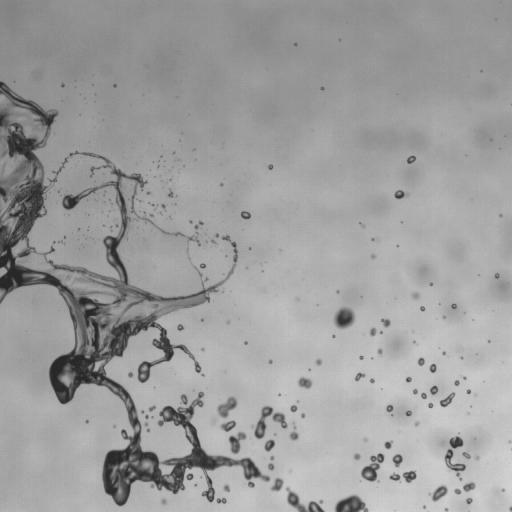droplet: (251, 406, 287, 439), (361, 453, 384, 481), (334, 494, 368, 511), (333, 307, 355, 329), (217, 396, 237, 417), (228, 431, 246, 454), (429, 485, 447, 501), (270, 477, 283, 492), (220, 420, 236, 431), (297, 377, 312, 388), (264, 439, 275, 451), (392, 454, 402, 467), (394, 190, 408, 199), (354, 372, 365, 381), (429, 385, 438, 395), (381, 318, 390, 327), (240, 211, 250, 219), (384, 440, 392, 449), (417, 357, 425, 365), (407, 156, 415, 163), (429, 364, 436, 372), (370, 327, 376, 336), (412, 292, 419, 299), (290, 405, 297, 412), (386, 405, 393, 412), (353, 453, 360, 460), (168, 189, 174, 197), (462, 452, 470, 458), (148, 405, 155, 411), (268, 463, 274, 470), (223, 484, 229, 491), (177, 324, 183, 330), (405, 410, 411, 416), (466, 498, 472, 504), (377, 348, 382, 355), (316, 359, 321, 365), (421, 393, 426, 399), (161, 498, 166, 504), (268, 164, 273, 169), (200, 263, 205, 268), (494, 273, 499, 278), (128, 372, 133, 377), (406, 377, 411, 382), (454, 380, 459, 385), (474, 455, 479, 460), (161, 204, 165, 210), (359, 223, 365, 227), (371, 254, 375, 259), (451, 304, 456, 308), (420, 306, 424, 311), (370, 378, 374, 383), (413, 389, 417, 394), (428, 403, 433, 407), (301, 413, 305, 418), (414, 421, 418, 426), (270, 455, 274, 460), (211, 239, 215, 243), (466, 389, 470, 393), (215, 233, 218, 237), (359, 356, 363, 359), (269, 359, 272, 363), (363, 438, 367, 441), (444, 508, 448, 511), (509, 506, 511, 511), (147, 191, 150, 194), (429, 282, 432, 285), (226, 320, 229, 323), (141, 410, 144, 413), (145, 415, 148, 418), (501, 488, 504, 491), (442, 352, 446, 354), (61, 84, 64, 86), (220, 183, 223, 185), (158, 212, 161, 214), (244, 342, 247, 344), (201, 348, 204, 350), (509, 440, 511, 443), (423, 505, 425, 508), (321, 87, 323, 89), (499, 214, 501, 216), (332, 335, 334, 337), (463, 377, 465, 379)
ligament: (0, 81, 268, 503), (444, 435, 465, 480), (286, 487, 324, 511), (389, 470, 416, 482), (454, 482, 475, 494), (439, 392, 455, 407), (191, 263, 202, 277), (290, 423, 298, 440), (194, 221, 203, 229), (150, 202, 157, 209), (186, 248, 190, 260)
